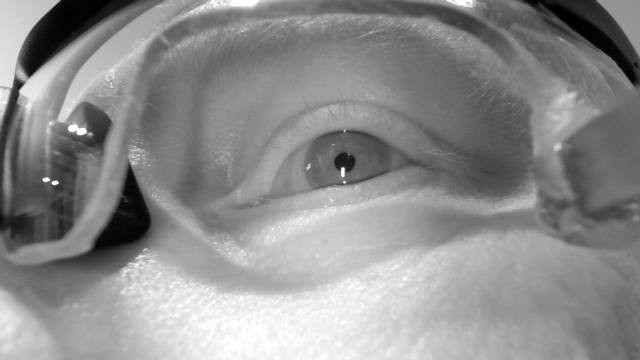pupil: (333, 151, 357, 174)
